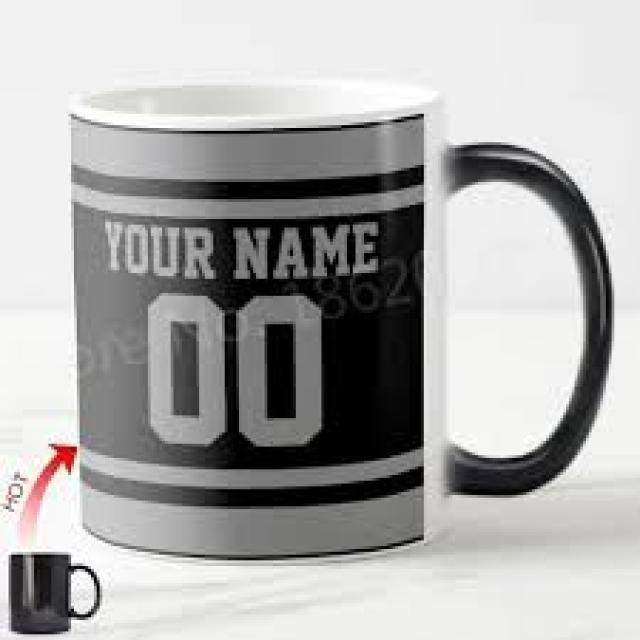taza: (58, 70, 622, 570), (0, 539, 117, 631)
